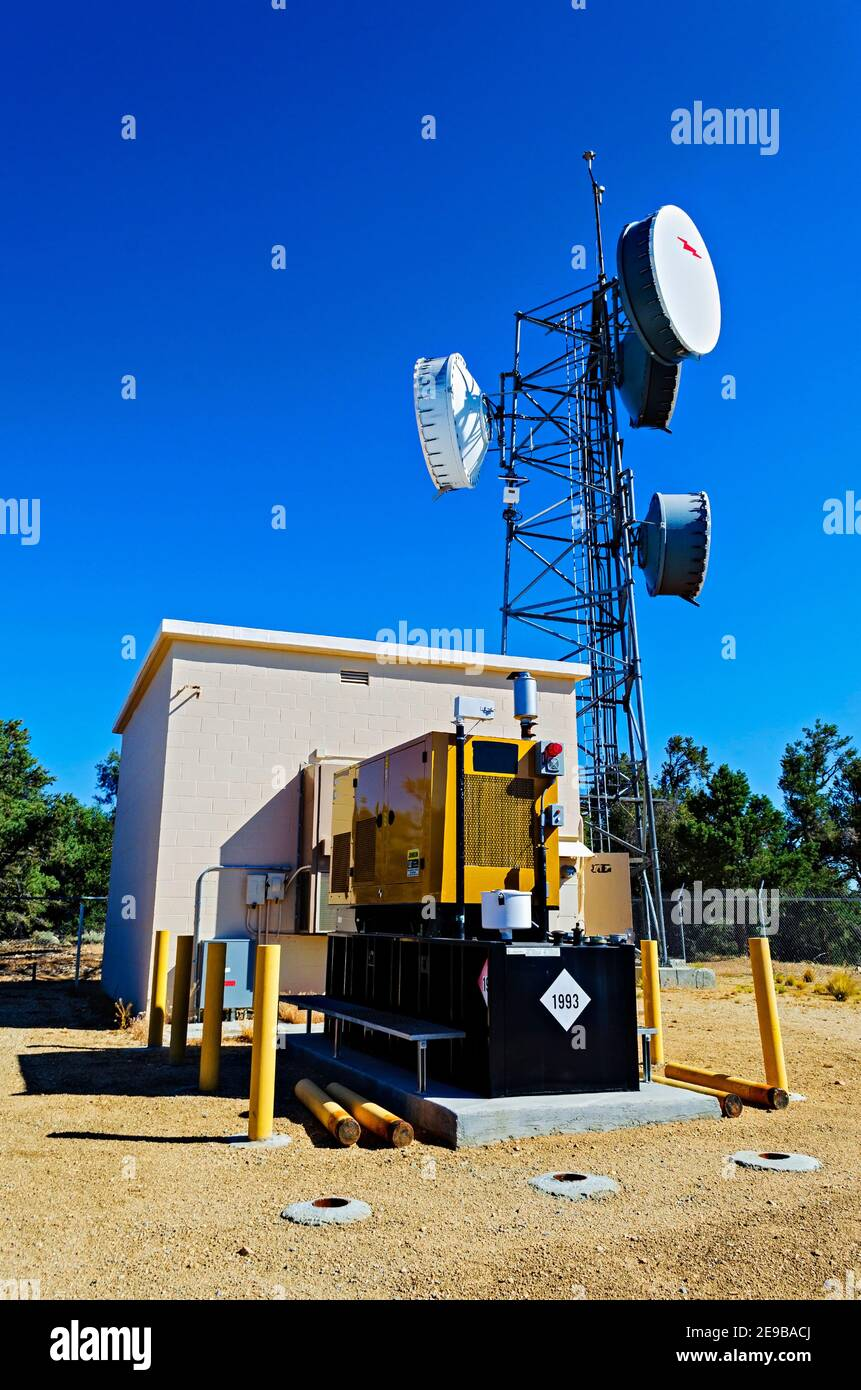ba: (608, 184, 734, 378), (384, 342, 488, 508), (648, 483, 726, 633)
